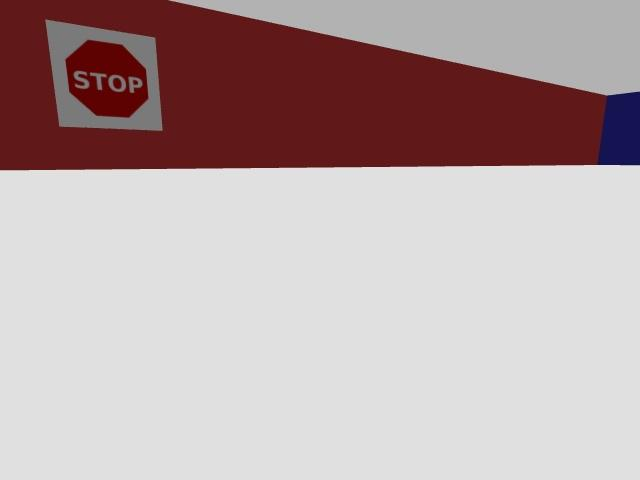stop: (47, 19, 162, 130)
